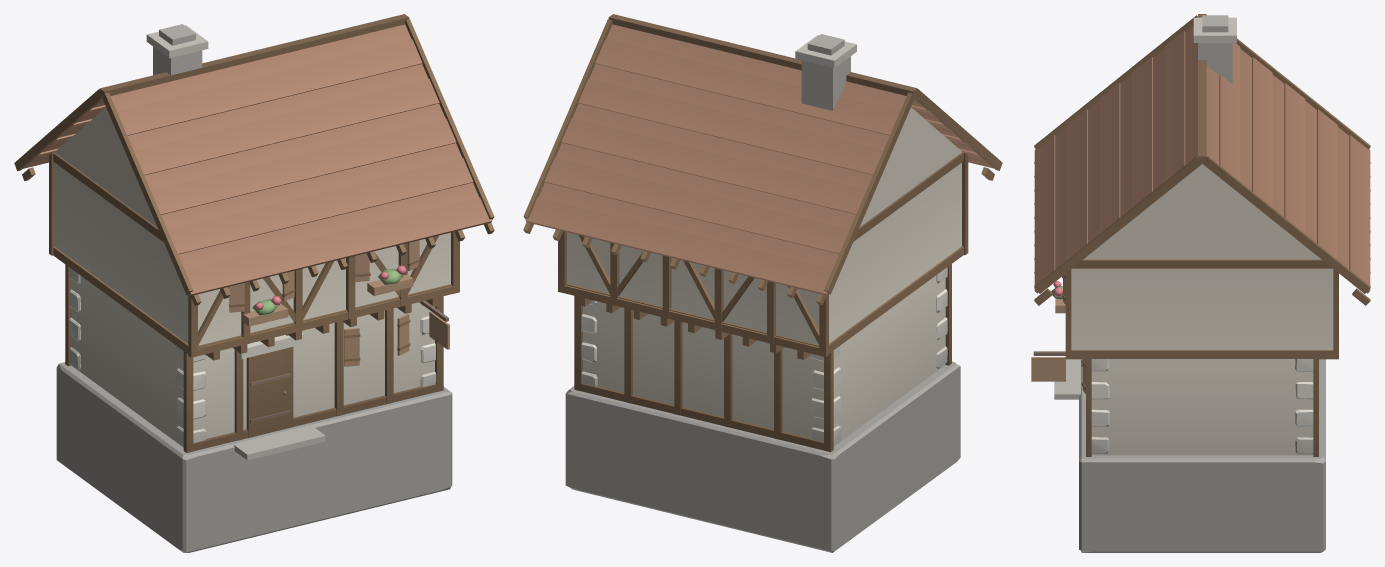
File: haus_fachwerk.glb
The picture shows the model from 3 angles, left to right: view 1: azimuth 30°, elevation 25°; view 2: azimuth 150°, elevation 25°; view 3: azimuth 270°, elevation 25°; orthographic projection. The views are drawn at different scales.
Visible parts, largest first — view 1: G_haus_fachwerk; view 2: G_haus_fachwerk; view 3: G_haus_fachwerk.
Boxes of the visible parts, x1=… form: G_haus_fachwerk: x1=14, y1=14, x2=494, y2=552; G_haus_fachwerk: x1=523, y1=14, x2=1002, y2=552; G_haus_fachwerk: x1=1031, y1=14, x2=1370, y2=552.
Bounding box in the file's own units: 7.81 × 11.14 × 7.83.
